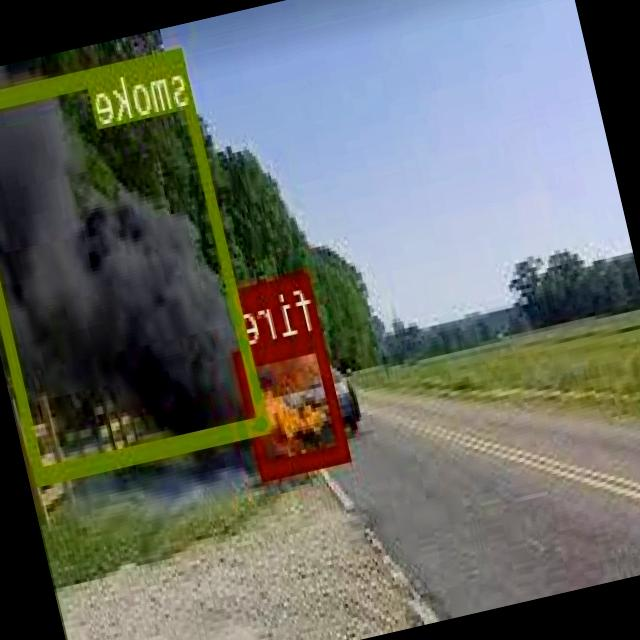fire: (236, 328, 352, 477)
smoke: (0, 45, 271, 479)
